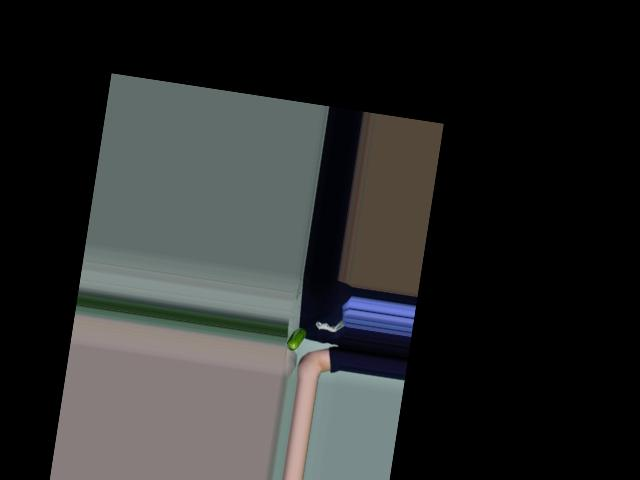cucumber: (285, 326, 306, 352)
